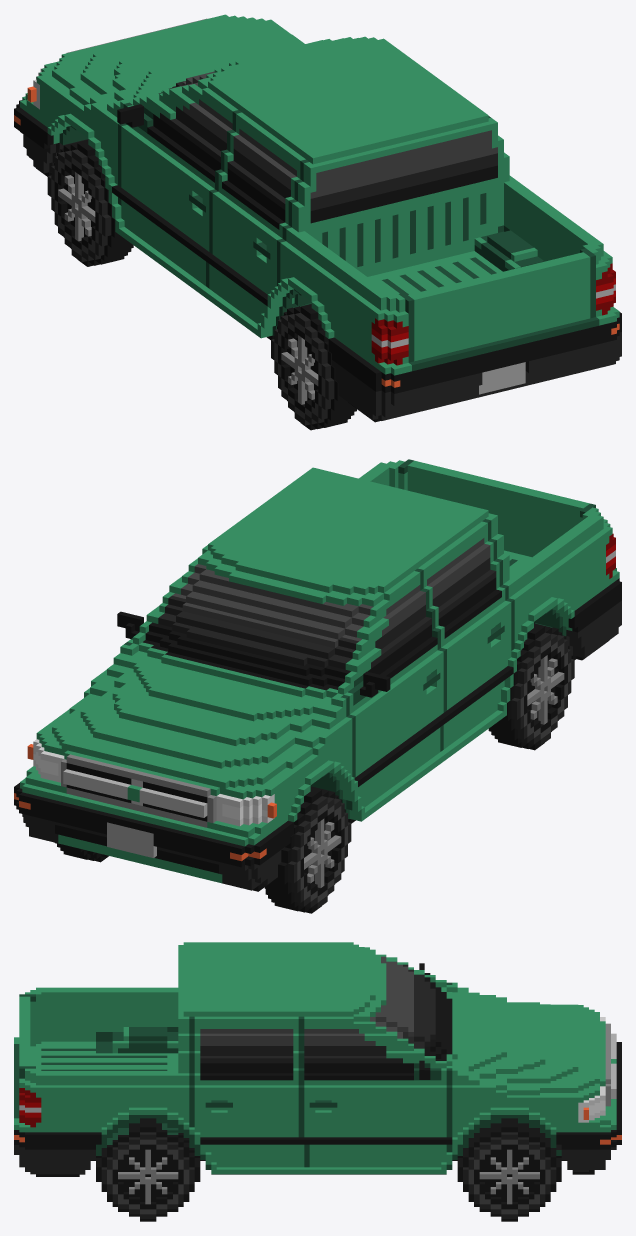
3 renders of one model, top to bottom at view 1: azimuth 30°, elevation 25°; view 2: azimuth 150°, elevation 25°; view 3: azimuth 270°, elevation 25°, orthographic. The views are drawn at different scales.
Parts seen in each view (by area): view 1: VOX; view 2: VOX; view 3: VOX.
Part boxes in pixels (<box>): VOX: <box>14,14,621,430</box>; VOX: <box>14,459,621,913</box>; VOX: <box>14,942,621,1221</box>.
Bounding box in the file's own units: 0.046 × 0.04 × 0.111.
